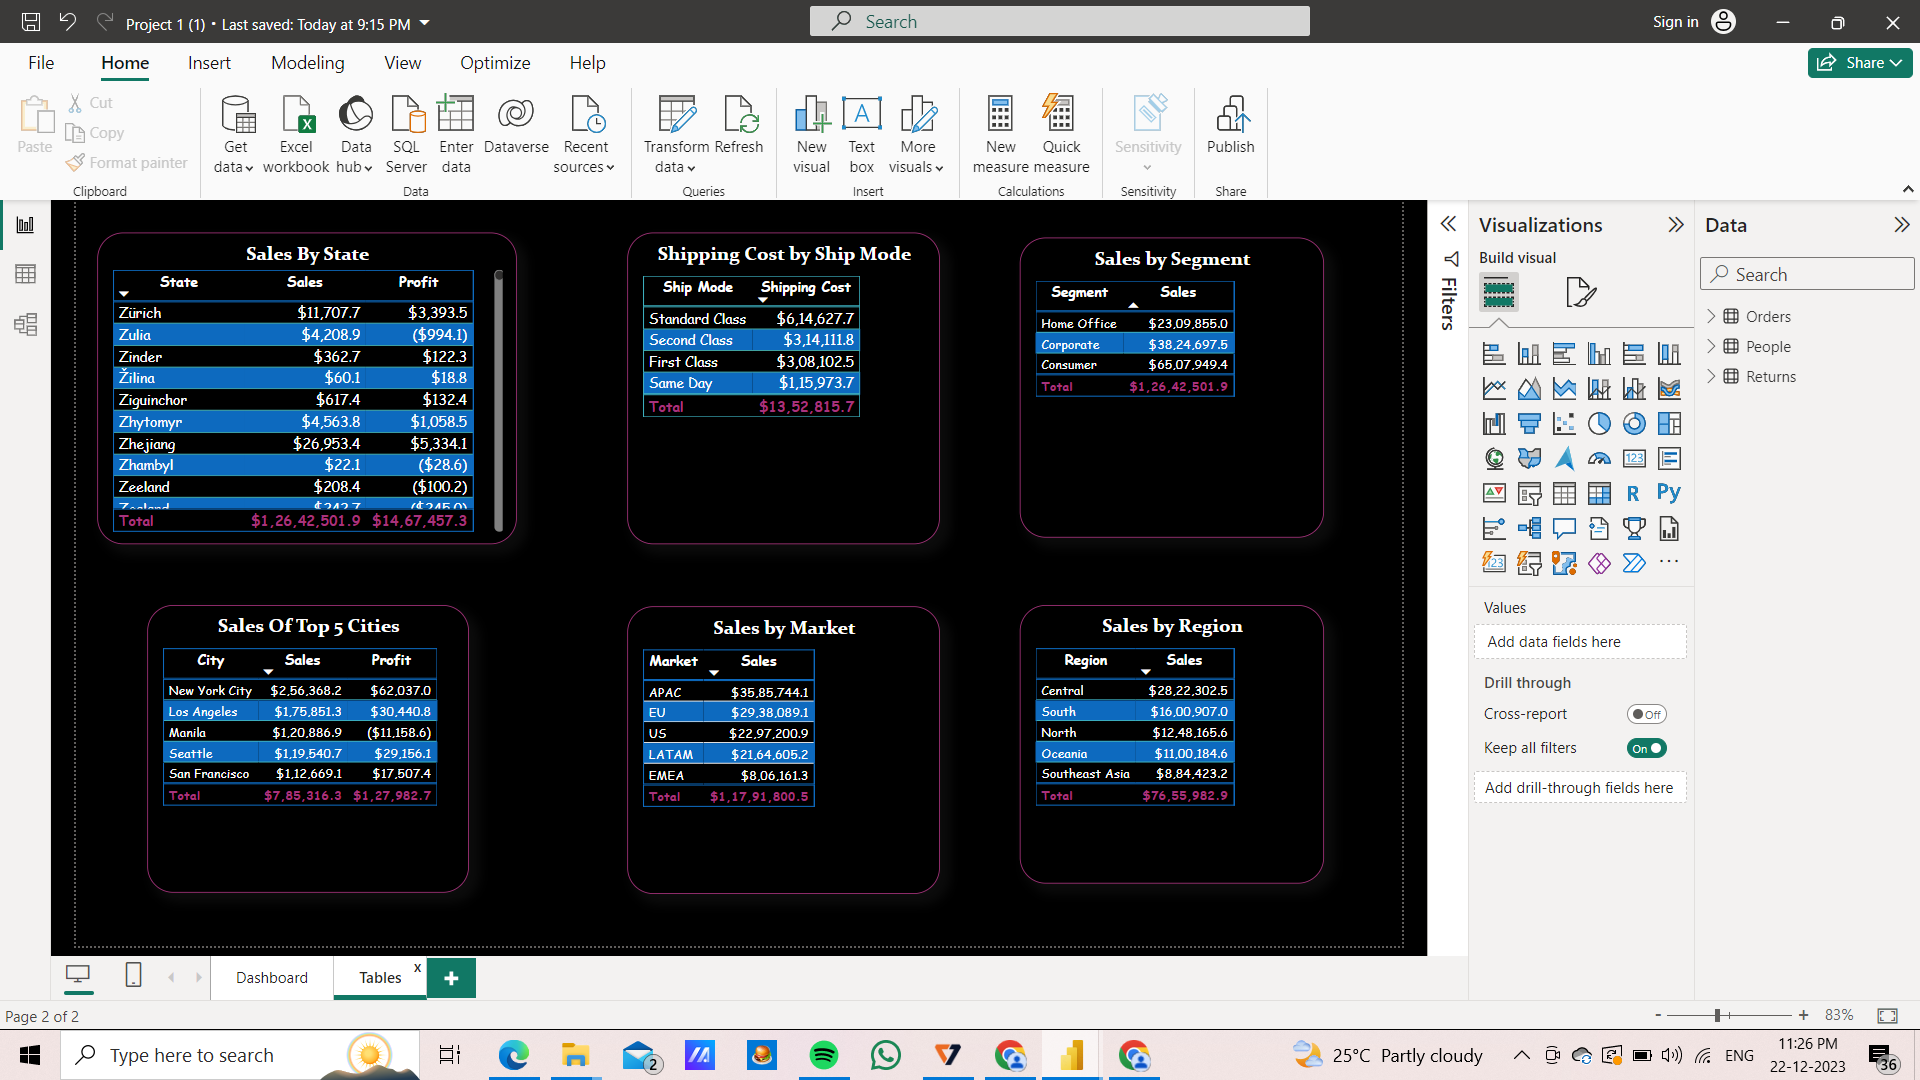

The page's visual inventory and layout, read from the dashboard file:
{"tool":"powerbi","page":{"name":"Tables","canvas":[1280,720],"ordinal":1},"visuals":[{"type":"tableEx","title":" Shipping Cost by Ship Mode","fields":{"Values":["Orders.Ship Mode","Sum(Orders.Shipping Cost)"]},"box":[531.7,31.8,301.9,300.7],"z":0},{"type":"tableEx","title":"Sales by Segment","fields":{"Values":["Orders.Segment","Sum(Orders.Sales)"]},"box":[910.7,36.7,293.4,289.7],"z":1000},{"type":"tableEx","title":"Sales by Market","fields":{"Values":["Orders.Market","Sum(Orders.Sales)"]},"box":[531.7,392.4,301.9,277.5],"z":2000},{"type":"tableEx","title":"Sales By State","fields":{"Values":["Orders.State","Sum(Orders.Sales)","Sum(Orders.Profit)"]},"box":[20.8,31.8,404.6,300.7],"z":8000},{"type":"tableEx","title":"Sales by Region","fields":{"Values":["Orders.Region","Sum(Orders.Sales)"]},"box":[910.7,391.2,293.4,268.9],"z":9000},{"type":"tableEx","title":"Sales Of Top 5 Cities","fields":{"Values":["Orders.City","Sum(Orders.Sales)","Sum(Orders.Profit)"]},"box":[68.5,391.2,310.5,277.5],"z":10000}]}

Visuals, with their boxes on the page's 1280x720 design canvas (x1, y1, x2, y2). These are canvas units, not pixel positions in the 1920x1080 screenshot, which may show the page scaled, cropped or inside an application window:
" Shipping Cost by Ship Mode" tableEx: 532/32/834/332
"Sales by Segment" tableEx: 911/37/1204/326
"Sales by Market" tableEx: 532/392/834/670
"Sales By State" tableEx: 21/32/425/332
"Sales by Region" tableEx: 911/391/1204/660
"Sales Of Top 5 Cities" tableEx: 68/391/379/669
